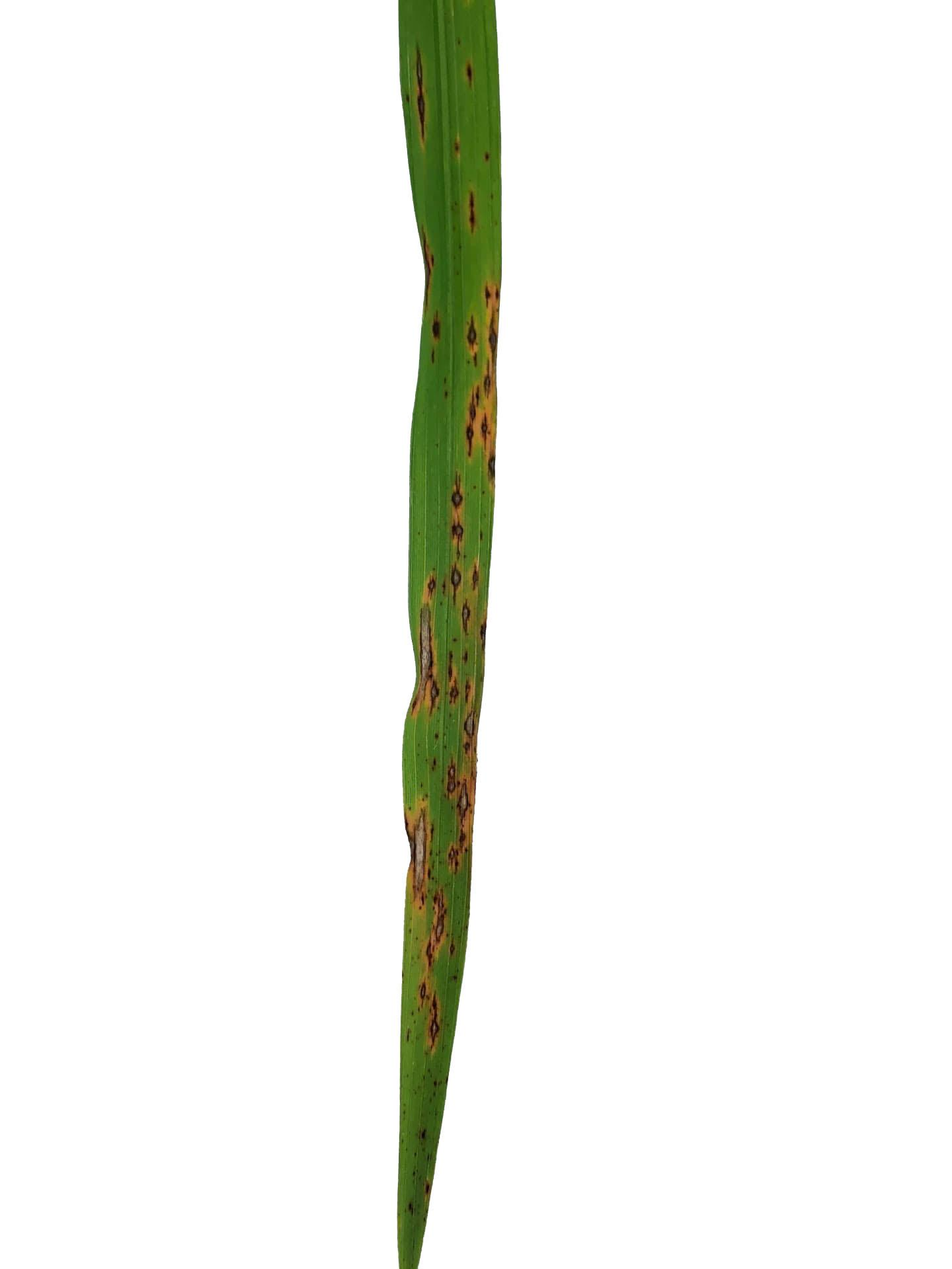Rice blast: (464, 301, 500, 458), (418, 973, 446, 1055), (408, 805, 432, 898), (416, 602, 436, 701), (424, 887, 449, 966), (445, 828, 467, 871), (443, 760, 464, 802), (456, 774, 471, 821), (447, 478, 469, 509), (460, 707, 477, 747), (448, 518, 471, 542), (448, 567, 464, 596)
